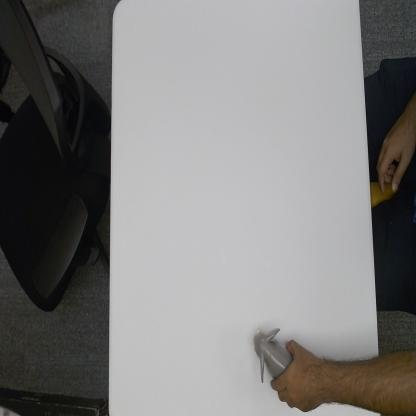Arm: (324, 357, 380, 413)
Elephant: (250, 326, 293, 384)
Hand: (270, 338, 324, 412)
